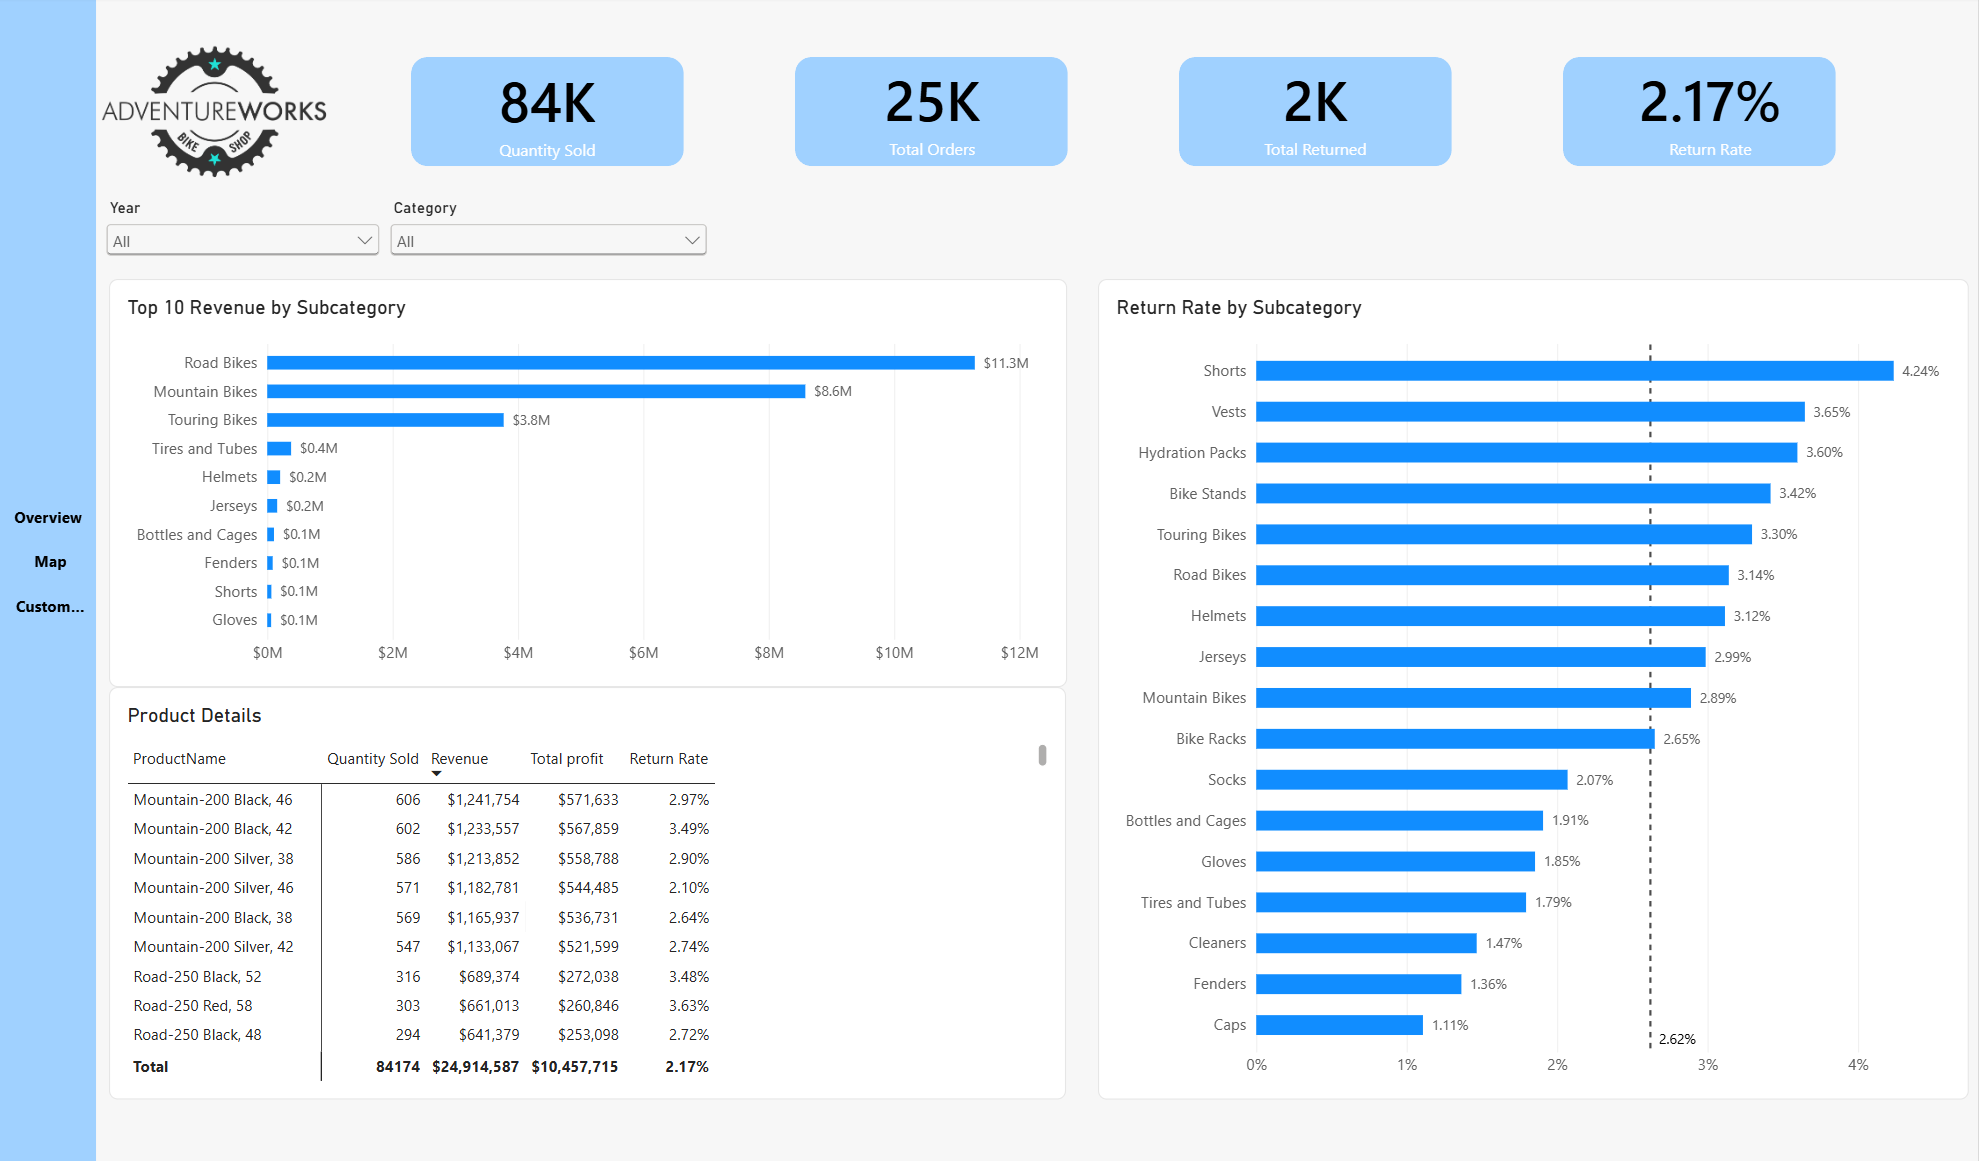

The page's visual inventory and layout, read from the dashboard file:
{"tool":"powerbi","page":{"name":"product","canvas":[1812,1074],"ordinal":2},"visuals":[{"type":"shape","box":[0,0,88.4,1079.7],"z":0},{"type":"actionButton","box":[0,498,92.5,40.5],"z":1000},{"type":"actionButton","box":[0,458.5,88.4,39.5],"z":2000},{"type":"actionButton","box":[0,539.5,92.5,39.5],"z":3000},{"type":"shape","box":[377.1,55.2,250,100],"z":3001},{"type":"shape","box":[728.8,55.2,250,100],"z":3002},{"type":"shape","box":[1080.6,55.2,250,100],"z":3003},{"type":"shape","box":[1432.3,55.2,250,100],"z":3004},{"type":"cardVisual","fields":{"Data":["Table.Order sold"]},"box":[376.9,55.6,250,100],"z":3005},{"type":"cardVisual","fields":{"Data":["Table.Total Orders"]},"box":[729.2,55.2,250,100],"z":3006},{"type":"cardVisual","fields":{"Data":["Table.Total returned"]},"box":[1080.2,55.2,250,100],"z":3007},{"type":"cardVisual","fields":{"Data":["Table.Return Rate"]},"box":[1442.7,55.2,250,100],"z":3008},{"type":"image","box":[56.5,42.4,280.4,126.1],"z":3009},{"type":"barChart","title":" Top 10 Revenue by Subcategory","fields":{"Category":["Product Subcategories Lookup.SubcategoryName"],"Y":["Table.Revenue"]},"box":[100,258.4,878.4,374.1],"z":3010},{"type":"clusteredBarChart","title":"Return Rate by Subcategory","fields":{"Category":["Product Subcategories Lookup.SubcategoryName"],"Y":["Table.Return Rate"]},"box":[1006.6,258.4,798.2,752.3],"z":3011},{"type":"pivotTable","title":"Product Details","fields":{"Rows":["Product Lookup.ProductName"],"Values":["Table.Quantity Sold","Table.Revenue","Table.Total profit","Table.Return Rate"]},"box":[100,632.5,877.3,378.2],"z":3012},{"type":"slicer","fields":{"Values":["Calendar Lookup.Year"]},"box":[92.6,185.2,260,84.3],"z":3013},{"type":"slicer","fields":{"Values":["Product Categories Lookup.CategoryName"]},"box":[353,185.4,300,300],"z":3014}]}

Visuals, with their boxes on the page's 1812x1074 design canvas (x1, y1, x2, y2). These are canvas units, not pixel positions in the 1979x1161 screenshot, which may show the page scaled, cropped or inside an application window:
shape: BBox(0, 0, 88, 1080)
actionButton: BBox(0, 498, 92, 538)
actionButton: BBox(0, 458, 88, 498)
actionButton: BBox(0, 540, 92, 579)
shape: BBox(377, 55, 627, 155)
shape: BBox(729, 55, 979, 155)
shape: BBox(1081, 55, 1331, 155)
shape: BBox(1432, 55, 1682, 155)
cardVisual - Table.Order sold: BBox(377, 56, 627, 156)
cardVisual - Table.Total Orders: BBox(729, 55, 979, 155)
cardVisual - Table.Total returned: BBox(1080, 55, 1330, 155)
cardVisual - Table.Return Rate: BBox(1443, 55, 1693, 155)
image: BBox(56, 42, 337, 168)
" Top 10 Revenue by Subcategory" barChart: BBox(100, 258, 978, 632)
"Return Rate by Subcategory" clusteredBarChart: BBox(1007, 258, 1805, 1011)
"Product Details" pivotTable: BBox(100, 632, 977, 1011)
slicer - Calendar Lookup.Year: BBox(93, 185, 353, 270)
slicer - Product Categories Lookup.CategoryName: BBox(353, 185, 653, 485)
